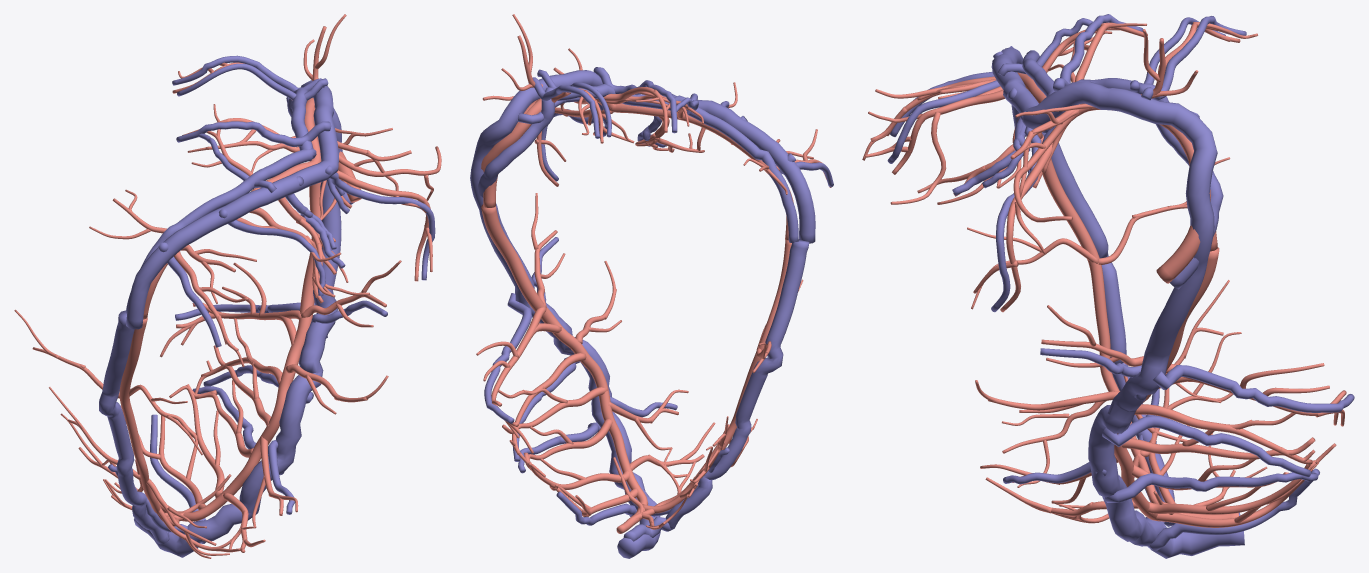
The model's file is vessels_69.glb.
The picture shows the model from 3 angles, left to right: view 1: azimuth 30°, elevation 25°; view 2: azimuth 150°, elevation 25°; view 3: azimuth 270°, elevation 25°; orthographic projection. The views are drawn at different scales.
Parts seen in each view (by area): view 1: Renderer Node; view 2: Renderer Node; view 3: Renderer Node.
Boxes of the visible parts, <box> form: Renderer Node: <box>14,14,441,558</box>; Renderer Node: <box>470,14,833,558</box>; Renderer Node: <box>862,14,1354,558</box>.
Size of the model in its own units: 90.8 by 124 by 89.48.
